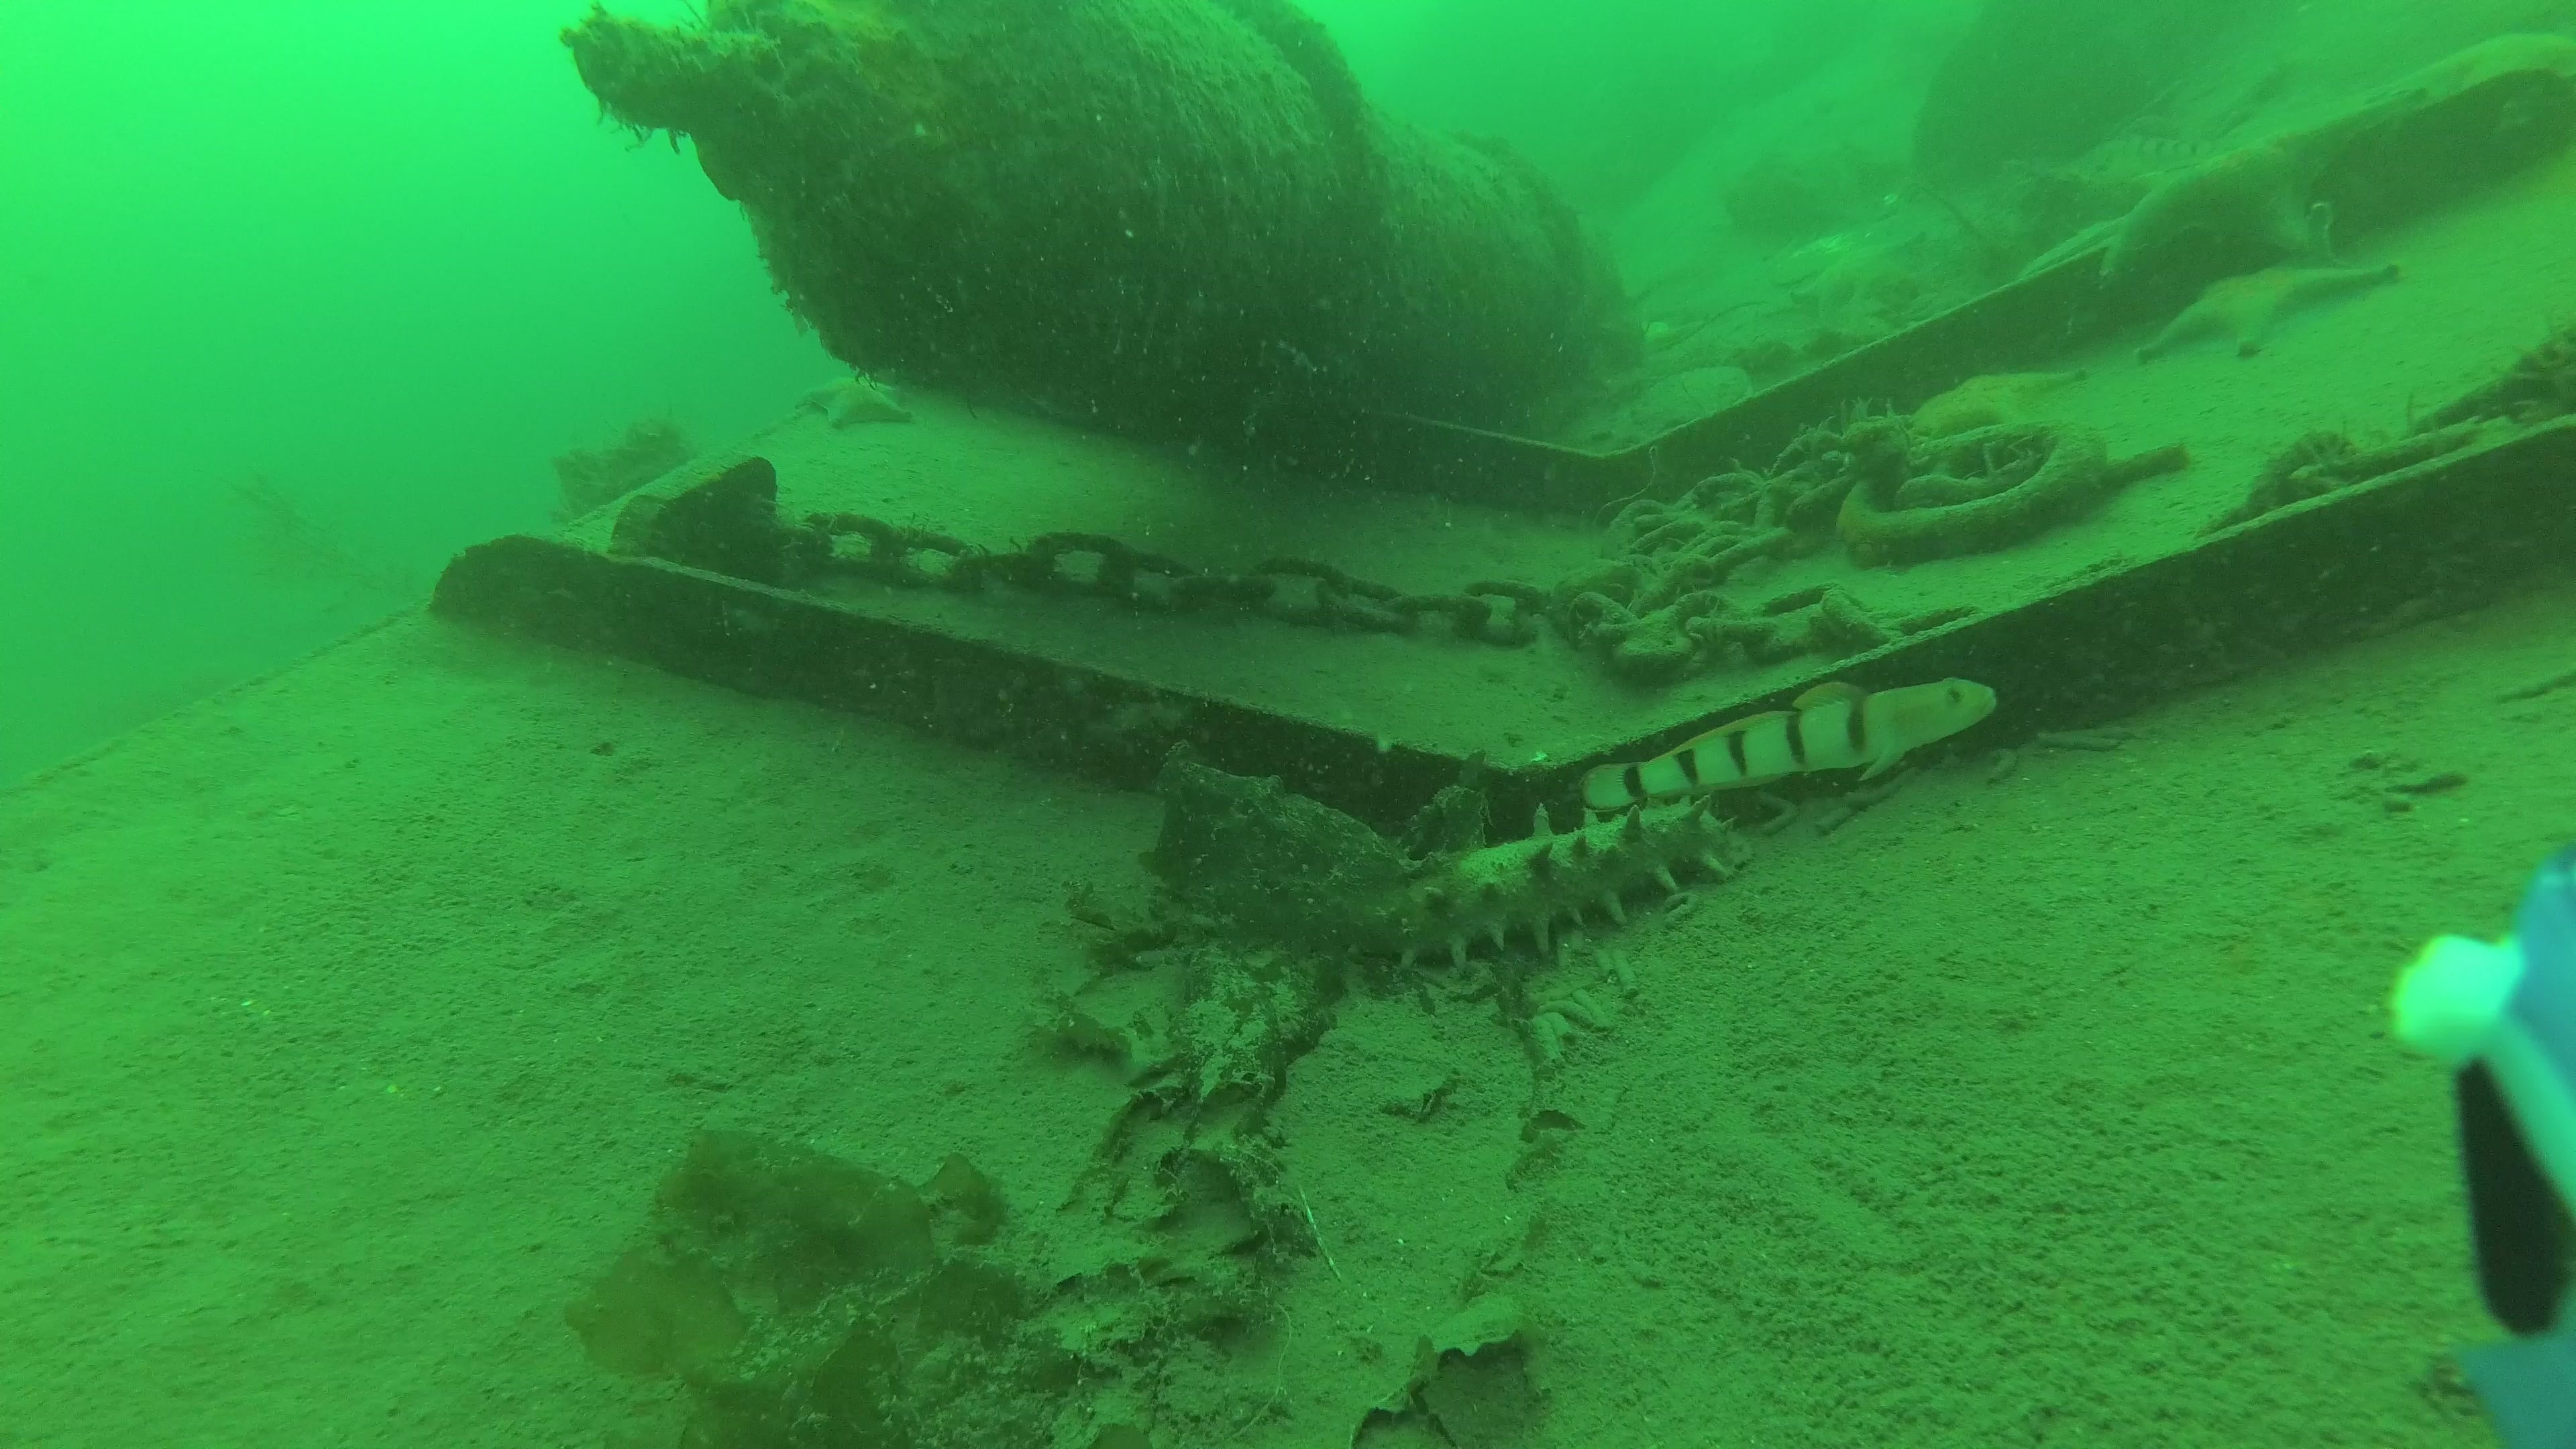holothurian: (1302, 800, 1737, 982)
scallop: (1631, 366, 1757, 442)
starfish: (2098, 87, 2431, 290), (2144, 271, 2399, 361), (1877, 372, 2093, 441), (1796, 239, 1923, 308), (801, 370, 909, 433)
